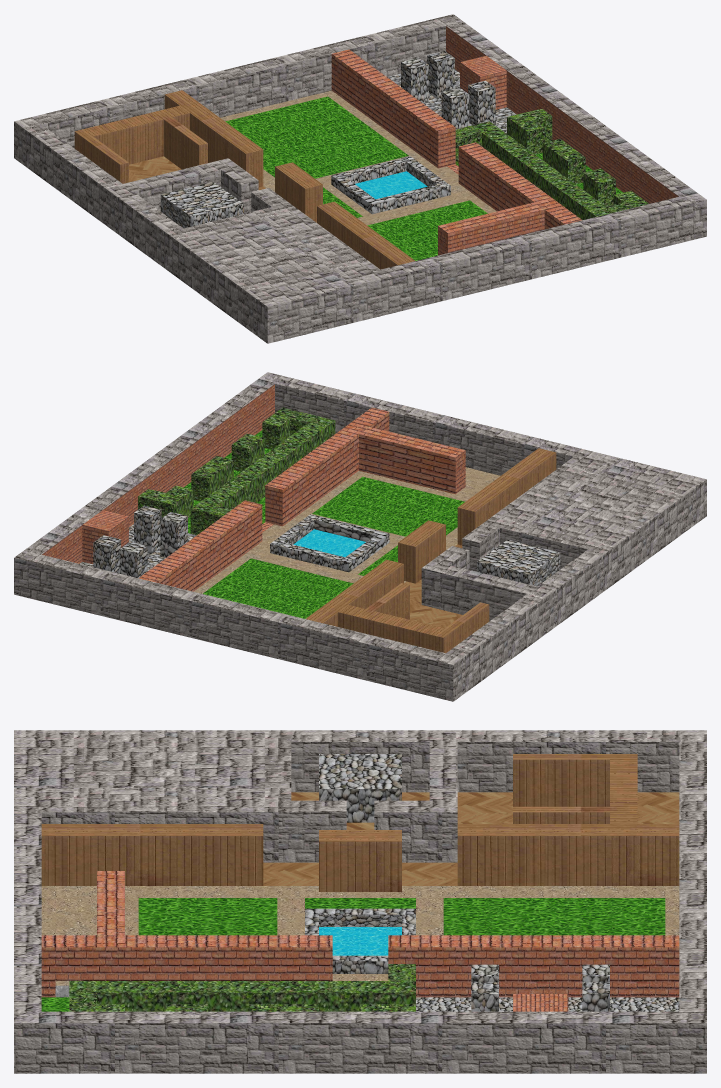
The model's file is Level2.fbx.
3 views of the same model, one above another, from view 1: azimuth 30°, elevation 25°; view 2: azimuth 150°, elevation 25°; view 3: azimuth 270°, elevation 25° (orthographic). The views are drawn at different scales.
Visible parts, largest first — view 1: pPlane1; view 2: pPlane1; view 3: pPlane1.
Part boxes in pixels (left/top/right/bottom): pPlane1: left=14, top=14, right=706, bottom=343; pPlane1: left=14, top=372, right=706, bottom=701; pPlane1: left=14, top=730, right=706, bottom=1073.
Bounding box in the file's own units: 2500 × 200 × 2500.
Materials: 10 (10 with a texture image).
